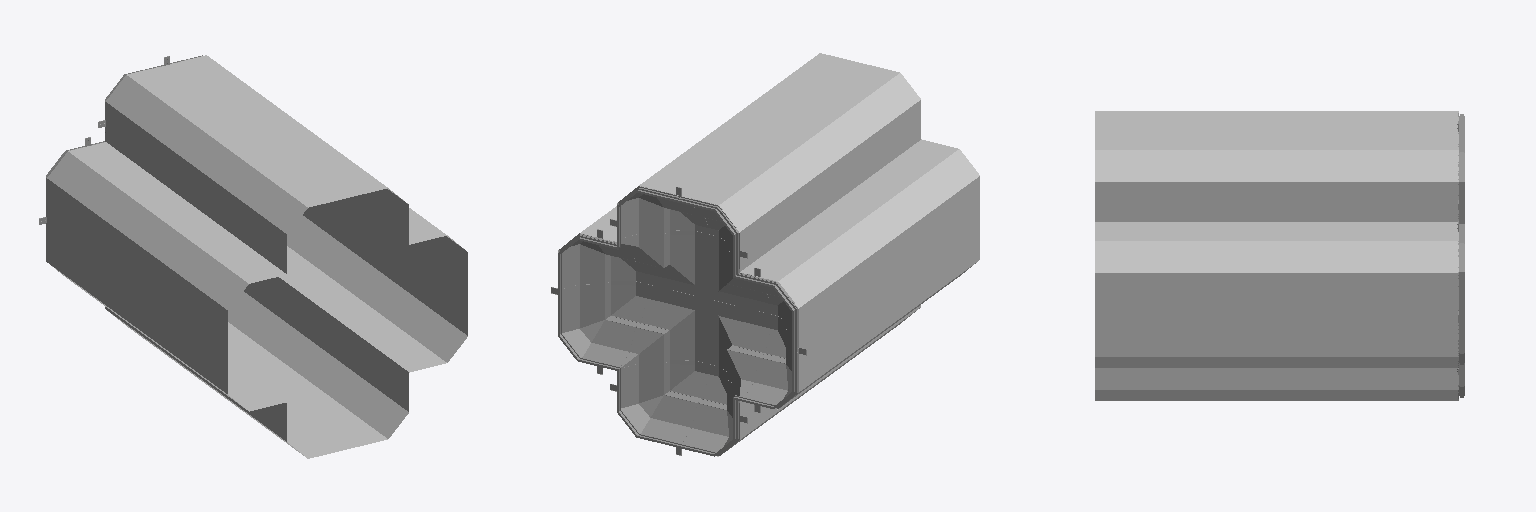
Rendered from aucman_skylight_02.obj.
The picture shows the model from 3 angles: view 1: azimuth 30°, elevation 25°; view 2: azimuth 150°, elevation 25°; view 3: azimuth 270°, elevation 25°; orthographic projection.
Visible parts, largest first — view 1: c_playerblocker; view 2: c_playerblocker, g_g, g_glass_10_crk, g_glass_02_crk, g_glass_01_crk, g_glass_11, g_glass_04_crk, g_glass_12, g_glass_09_crk, g_glass_03_crk, g_glass_05_crk, g_glass_07 (+4 smaller); view 3: c_playerblocker, g_g.
Boxes of the visible parts, box(x1,y1,x2,y2) form: c_playerblocker: box(46, 55, 467, 458); c_playerblocker: box(558, 53, 979, 456); g_g: box(551, 186, 806, 456); g_glass_10_crk: box(562, 285, 642, 365); g_glass_02_crk: box(621, 364, 704, 442); g_glass_01_crk: box(621, 289, 704, 367); g_glass_11: box(621, 234, 704, 297); g_glass_04_crk: box(709, 306, 766, 395); g_glass_12: box(618, 188, 704, 238); g_glass_09_crk: box(559, 234, 642, 286); g_glass_03_crk: box(683, 372, 739, 451); g_glass_05_crk: box(749, 321, 798, 408); g_glass_07: box(709, 239, 766, 311); c_playerblocker: box(1095, 111, 1458, 400); g_g: box(1457, 113, 1464, 398).
Size of the model in its own units: 1300 by 1300 by 1625.